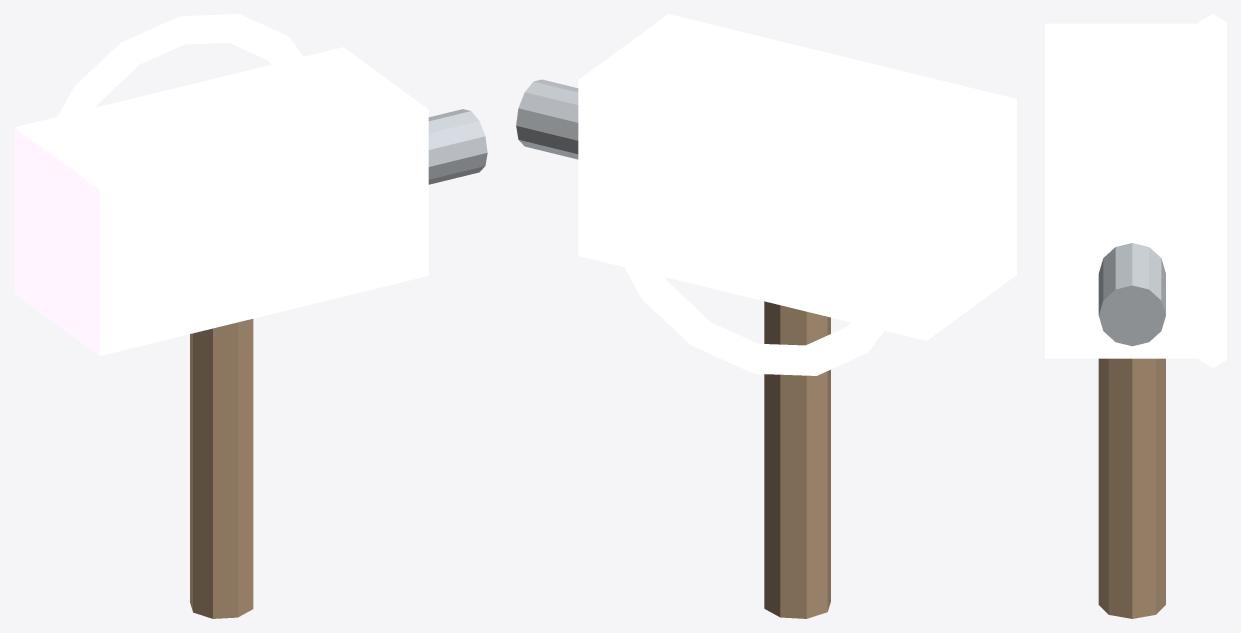
Rendered from mazo_6.glb.
3 renders of one model, left to right at view 1: azimuth 30°, elevation 25°; view 2: azimuth 150°, elevation 25°; view 3: azimuth 270°, elevation 25°, orthographic. The views are drawn at different scales.
Visible parts, largest first — view 1: cabeza, mango, energia, piston; view 2: cabeza, energia, mango, piston; view 3: cabeza, mango, piston, energia.
Boxes of the visible parts, bbox=[...] form: cabeza: bbox=[14, 47, 428, 355]; mango: bbox=[190, 319, 253, 618]; energia: bbox=[57, 14, 305, 122]; piston: bbox=[428, 109, 487, 184]; cabeza: bbox=[578, 14, 1016, 340]; energia: bbox=[597, 40, 907, 375]; mango: bbox=[764, 301, 830, 618]; piston: bbox=[516, 79, 578, 159]; cabeza: bbox=[1045, 23, 1219, 358]; mango: bbox=[1098, 358, 1165, 618]; piston: bbox=[1098, 243, 1165, 346]; energia: bbox=[1199, 14, 1226, 367].
Bounding box in the file's own units: 0.696 × 0.9 × 0.2582.
